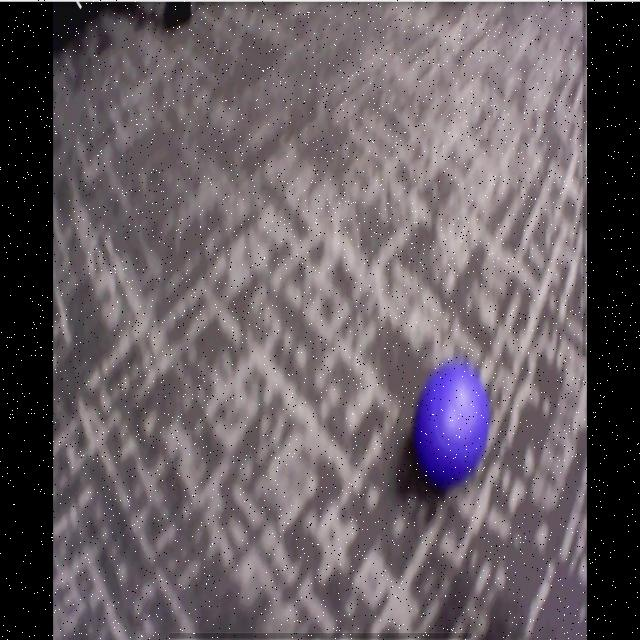ball: (415, 365, 490, 480)
